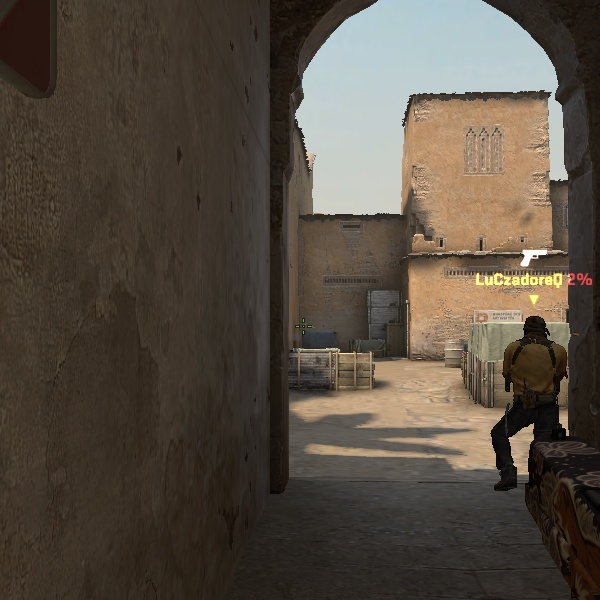t_body: (494, 313, 564, 486)
t_head: (522, 314, 550, 342)
